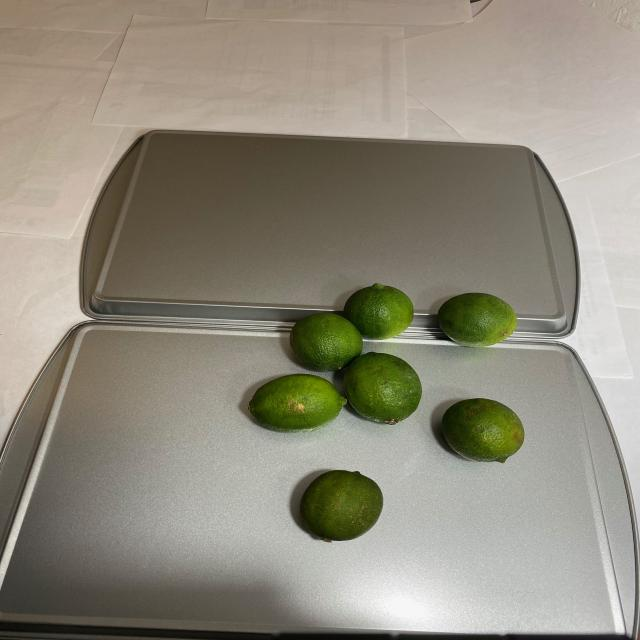lemon: (243, 282, 528, 550)
